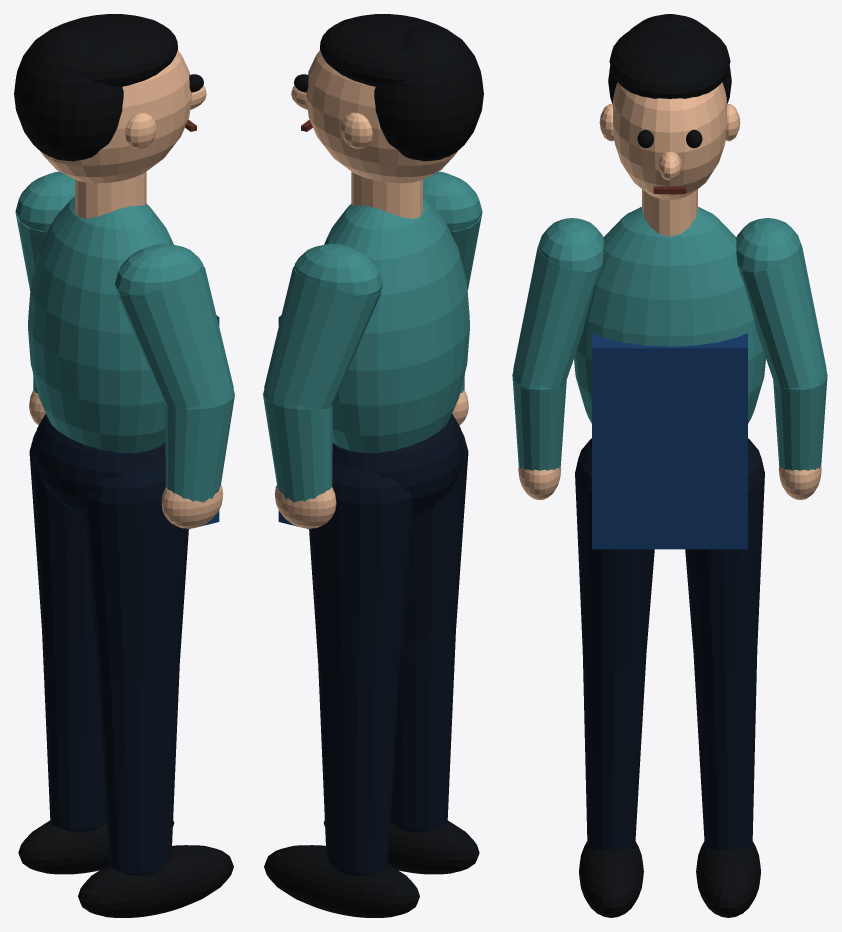
The model's file is person_11.dae.
3 renders of one model, left to right at view 1: azimuth 30°, elevation 25°; view 2: azimuth 150°, elevation 25°; view 3: azimuth 270°, elevation 25°, orthographic.
Visible parts, largest first — view 1: part0node, part2node, part1node, part4node; view 2: part0node, part2node, part1node, part4node; view 3: part2node, part0node, part3node, part1node, part4node.
Boxes of the visible parts, x1,y1,x2,y2 form: part0node: (29,414,188,876); part2node: (15,171,234,502); part1node: (14,14,233,917); part4node: (29,50,223,528); part0node: (309,414,468,876); part2node: (263,171,482,502); part1node: (264,14,483,917); part4node: (274,50,468,528); part2node: (512,207,827,470); part0node: (575,438,764,849); part3node: (592,333,747,549); part1node: (579,14,760,917); part4node: (518,82,821,499).
Size of the model in its own units: 0.033 by 0.05 by 0.15.
